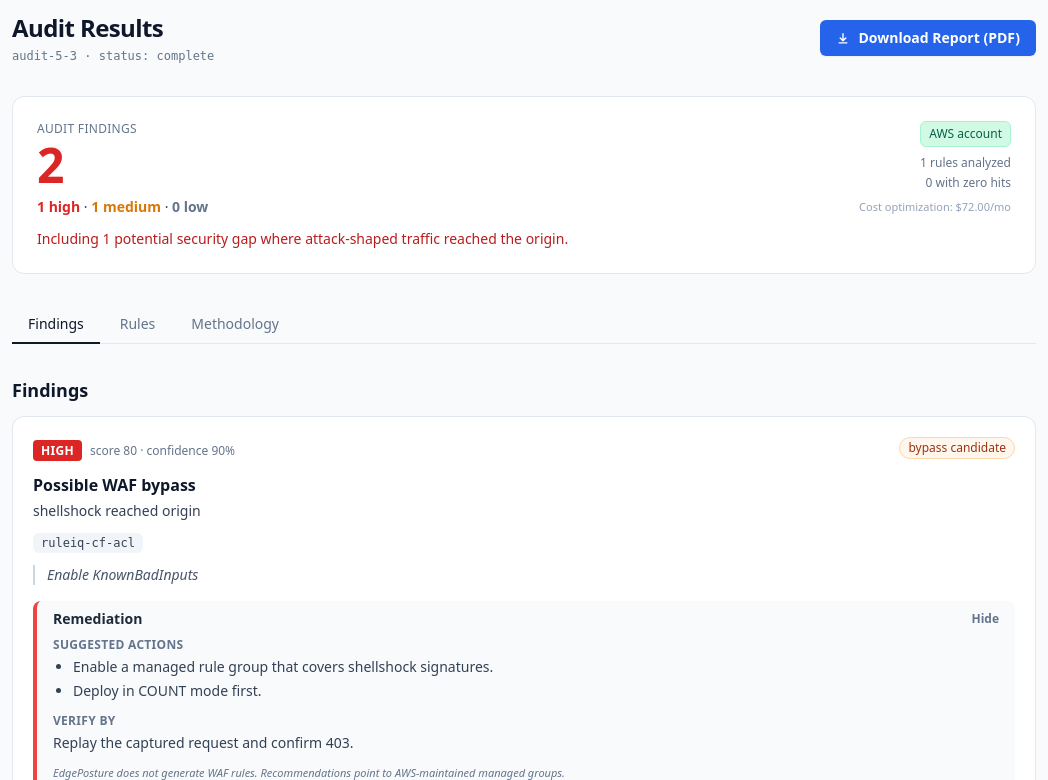
Test case: Phase 5.3 — Results UI › shows the override-badge on rules with managed_rule_overrides
This screenshot has width=1048, height=780.
Click the tab with test id "tab-rules" at [138, 325], box [104, 306, 171, 344]
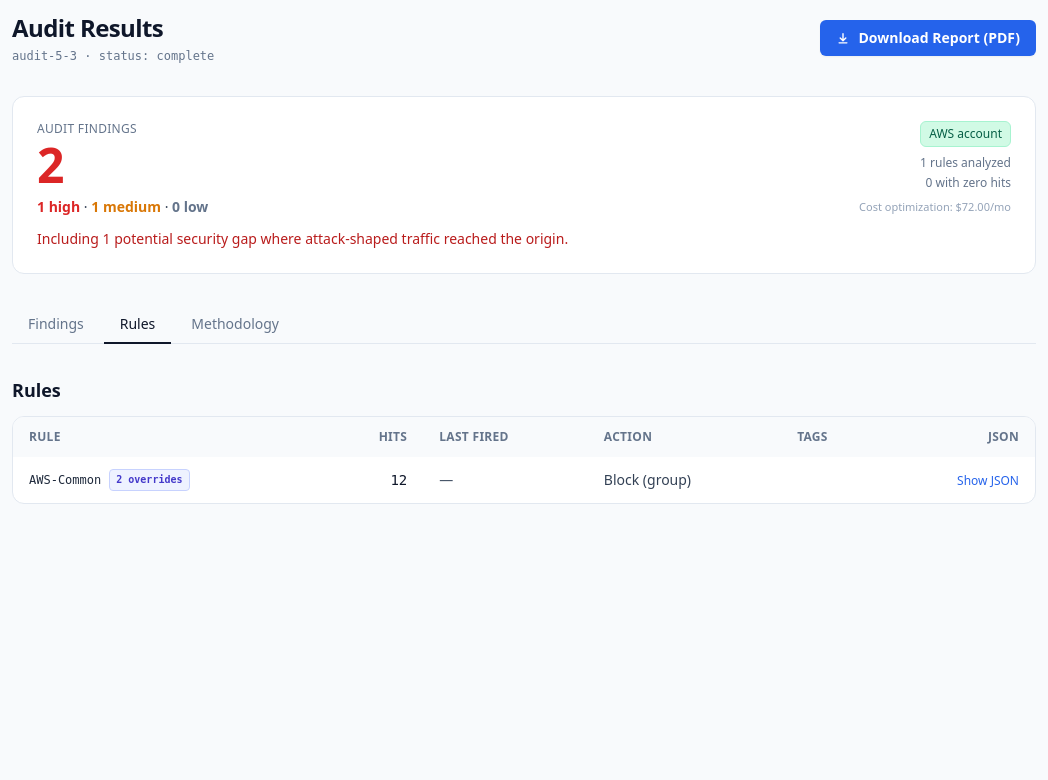
Check: the text with test id "override-badge" shows "2 override", box [109, 469, 190, 491]
